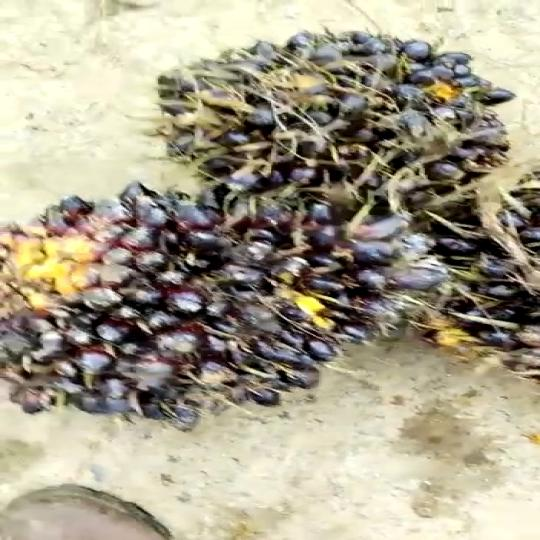mentah: (0, 188, 405, 446), (133, 14, 518, 216)
